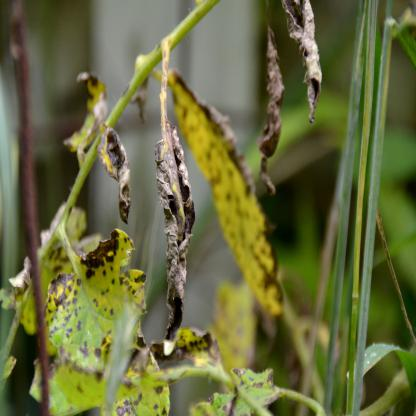Tomato Septoria leaf spot: (172, 72, 282, 309), (45, 231, 167, 413)
